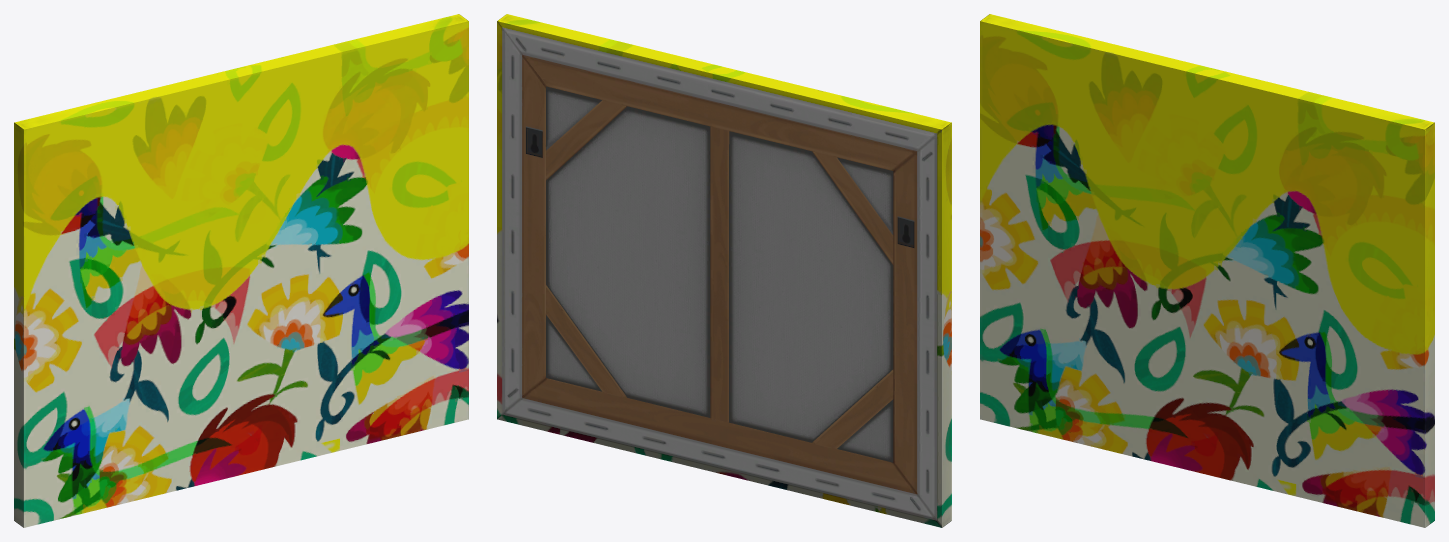
File: cuadroGrande.fbx
The picture shows the model from 3 angles, left to right: view 1: azimuth 30°, elevation 25°; view 2: azimuth 150°, elevation 25°; view 3: azimuth 330°, elevation 25°; orthographic projection.
Parts seen in each view (by area): view 1: s4studio_mesh_1; view 2: s4studio_mesh_1; view 3: s4studio_mesh_1.
Boxes of the visible parts, x1,y1,x2,y2 form: s4studio_mesh_1: [14, 14, 468, 527]; s4studio_mesh_1: [497, 14, 951, 527]; s4studio_mesh_1: [980, 14, 1434, 527].
Bounding box in the file's own units: 185 × 158 × 7.02.
Materials: 1 (1 with a texture image).
